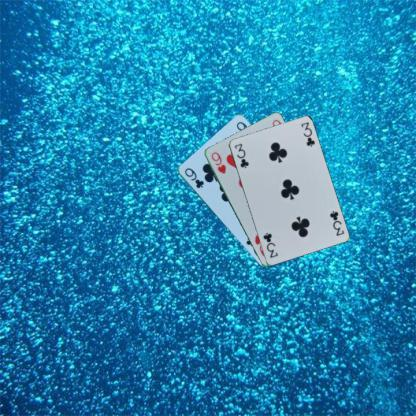3c: (327, 208, 345, 237), (232, 141, 250, 169)
9c: (182, 165, 205, 190)
9h: (209, 149, 227, 175)
